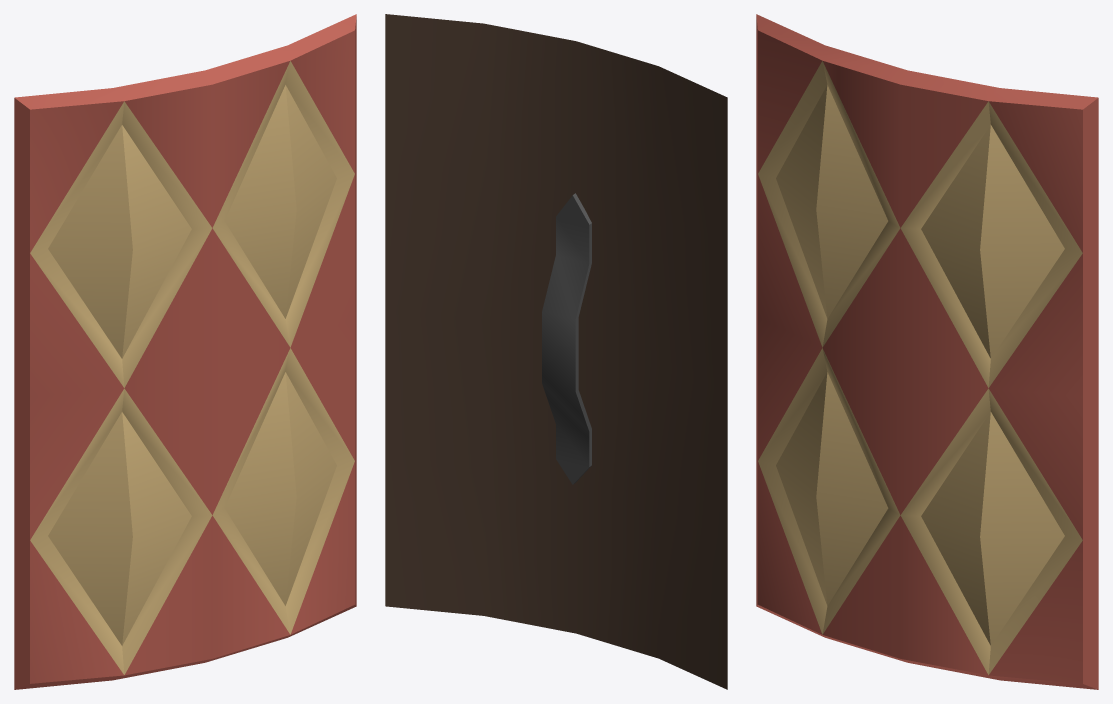
The model's file is Shield_6.fbx.
3 renders of one model, left to right at view 1: azimuth 30°, elevation 25°; view 2: azimuth 150°, elevation 25°; view 3: azimuth 330°, elevation 25°, orthographic.
Parts seen in each view (by area): view 1: polySurface233; view 2: polySurface233; view 3: polySurface233.
Part boxes in pixels (box(x1,y1,x2,y2)): polySurface233: box(14, 14, 356, 689); polySurface233: box(385, 14, 727, 689); polySurface233: box(756, 14, 1098, 689).
Bounding box in the file's own units: 187 × 309 × 27.77.
